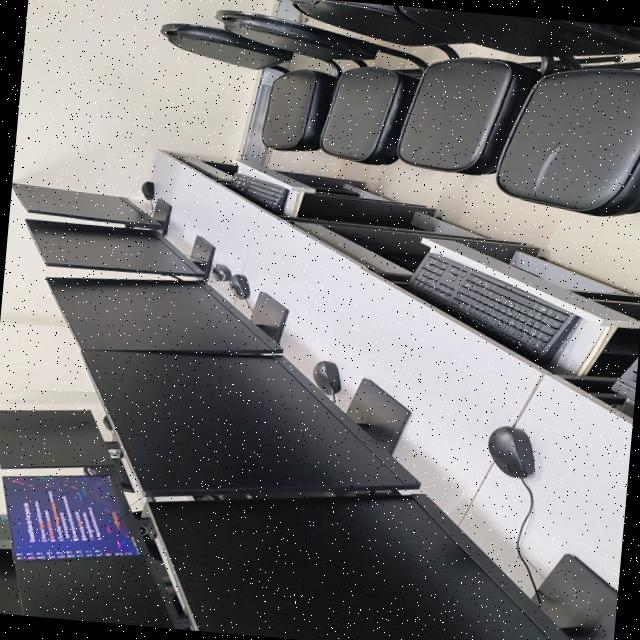Chair: (402, 6, 640, 216), (216, 11, 425, 165), (161, 23, 336, 151), (396, 50, 566, 175), (290, 0, 472, 48)
Keyboard: (408, 253, 575, 357), (229, 173, 286, 213)
Monitor: (147, 495, 556, 640), (81, 351, 413, 496), (46, 277, 278, 350), (16, 554, 176, 629), (2, 476, 137, 560), (24, 219, 207, 280), (11, 183, 169, 235), (0, 410, 117, 469), (0, 549, 22, 615)
Mouse: (487, 426, 533, 478), (311, 360, 339, 395), (227, 274, 248, 299), (209, 264, 229, 281), (140, 181, 152, 200)
